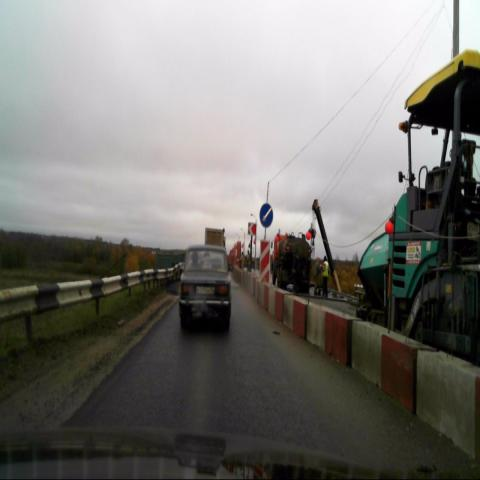4_2_2: (259, 203, 273, 227)
